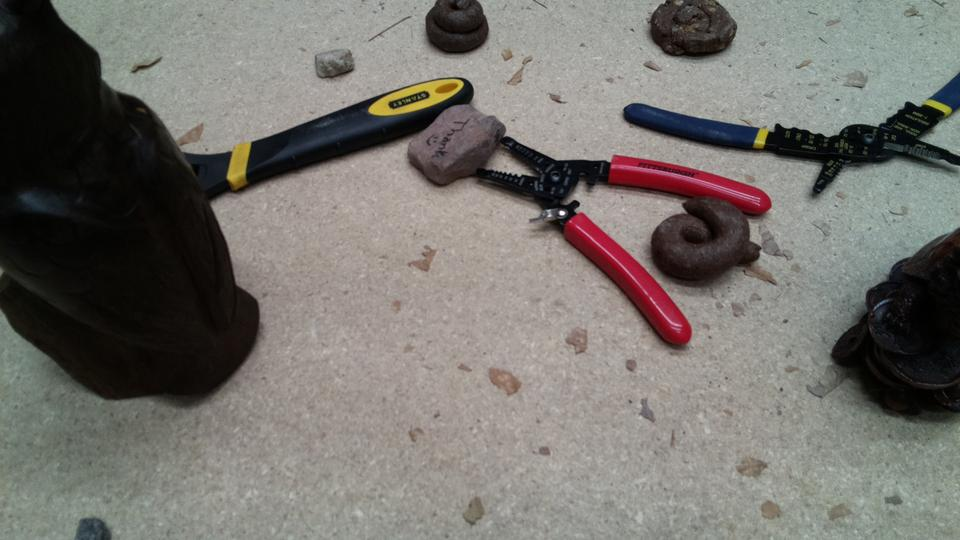poop: (648, 194, 761, 285), (647, 1, 738, 62), (419, 1, 495, 63)
